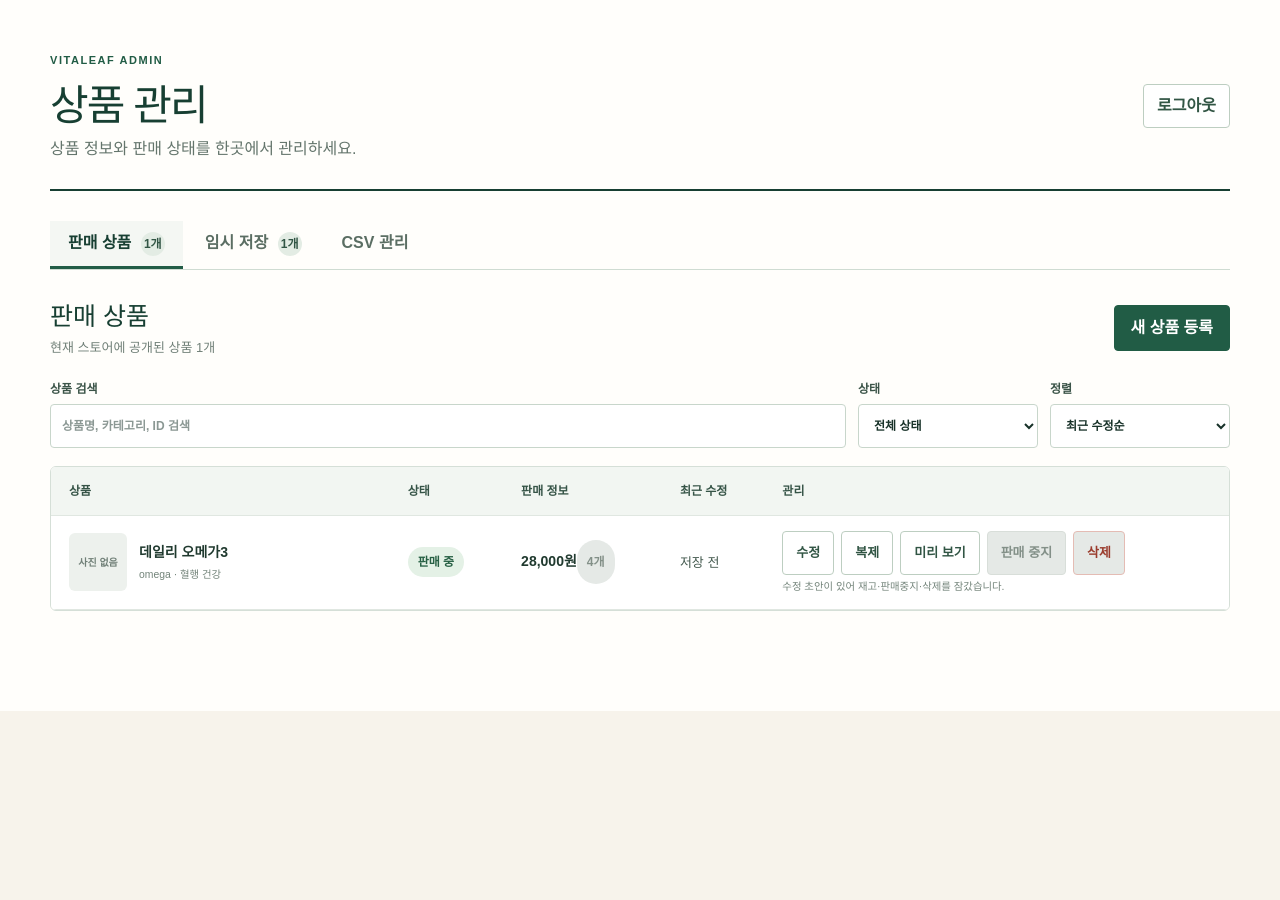
it: clears the catalog and editor on checking and ignores callbacks from the old admin generation
The image size is (1280, 900).
Later steps or results of the test are not shown.
Click the tab "임시 저장 1개".
click(253, 244)  # box [187,220,320,268]
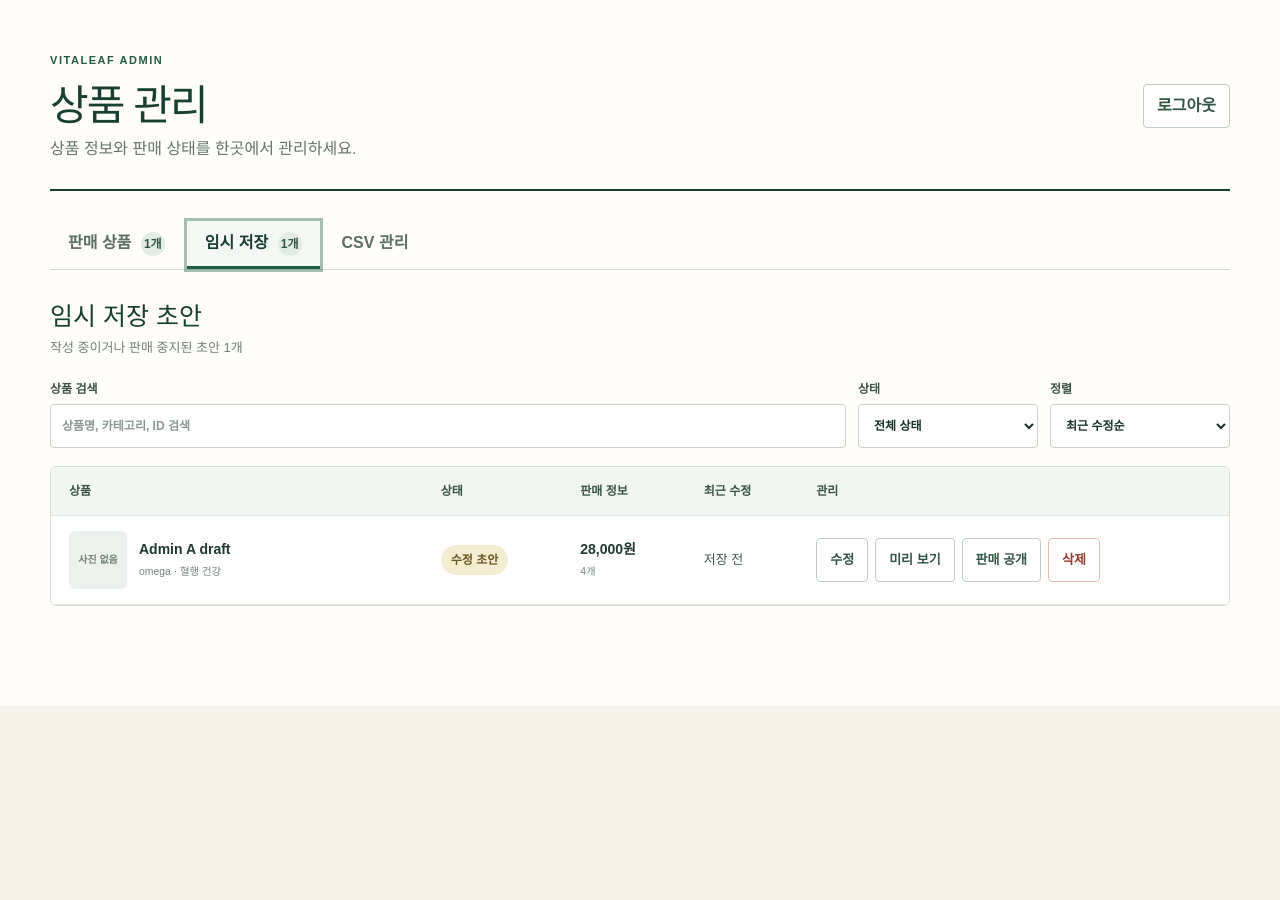
Click the button with aria-label "Admin A draft 수정".
click(842, 560)  # box [816,538,868,582]
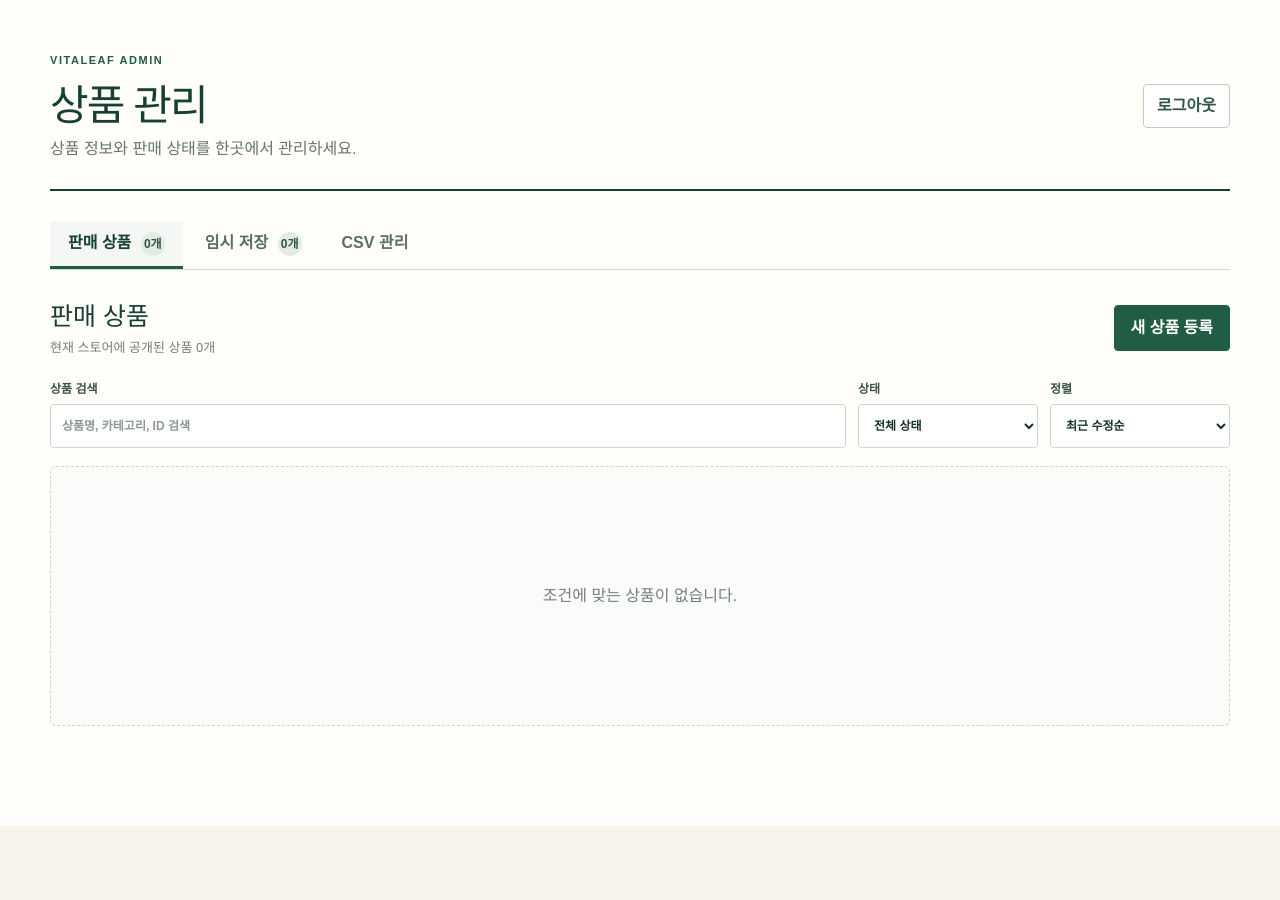
Check: the text "조건에 맞는 상품이 없습니다." is shown, box [50,466,1230,726]
